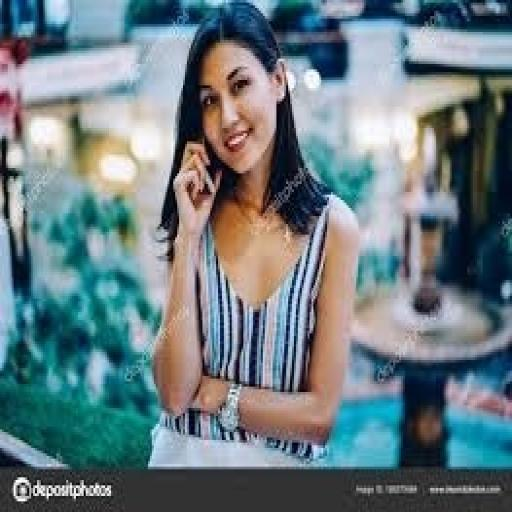calling: (146, 0, 362, 467)
